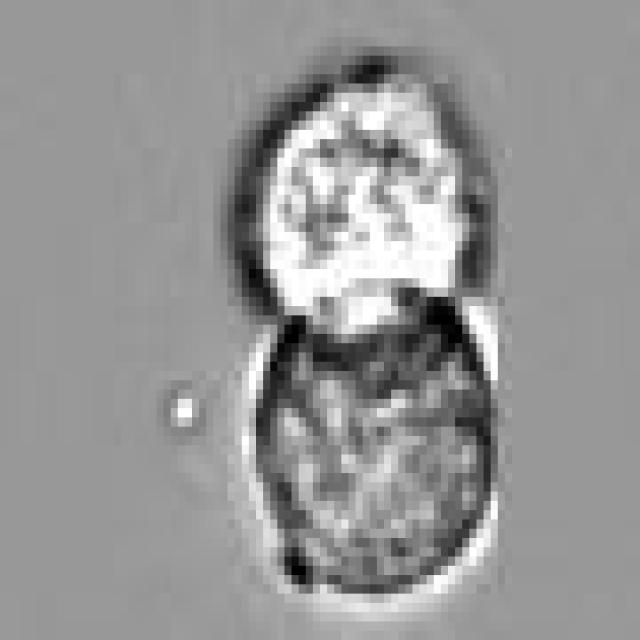Cancer Cell: (263, 269, 498, 594)
WBC: (256, 65, 484, 325)
